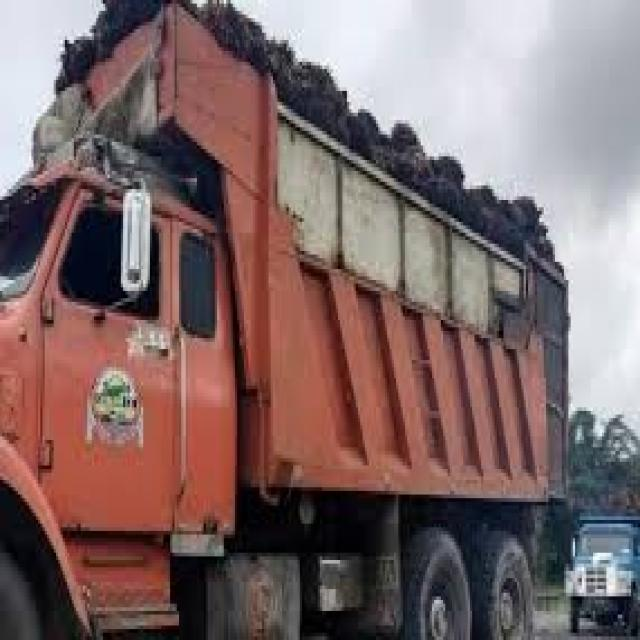TRUCK: (0, 11, 562, 640), (572, 495, 636, 640)
